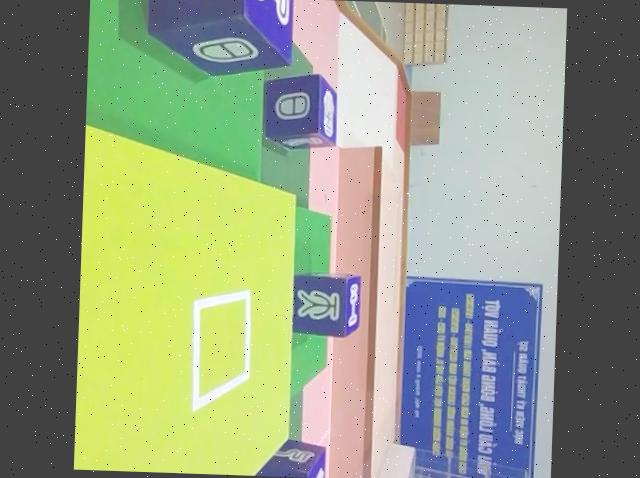R2 Fake Blue: (141, 0, 293, 79), (258, 73, 337, 153), (289, 272, 361, 339), (249, 437, 324, 478)
